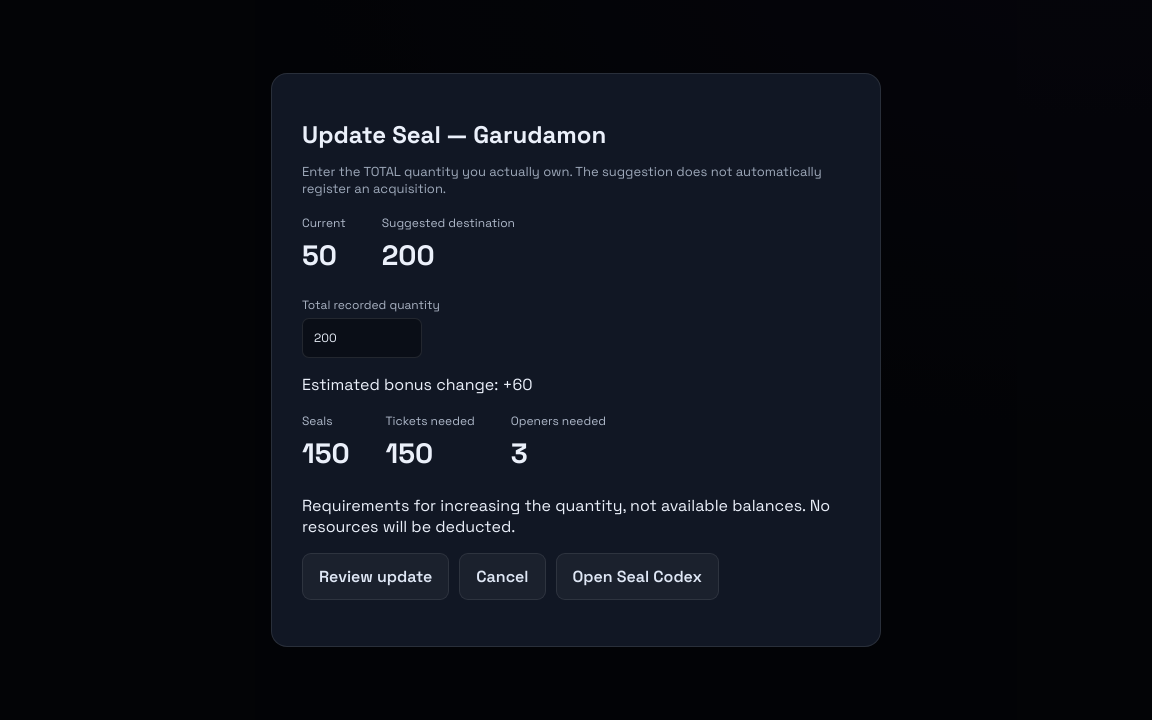
it: Contextual Seal quantity editor › renders translated editing and confirmation in en
Click the button "Review update" at (376, 576), box [302,553,449,600]
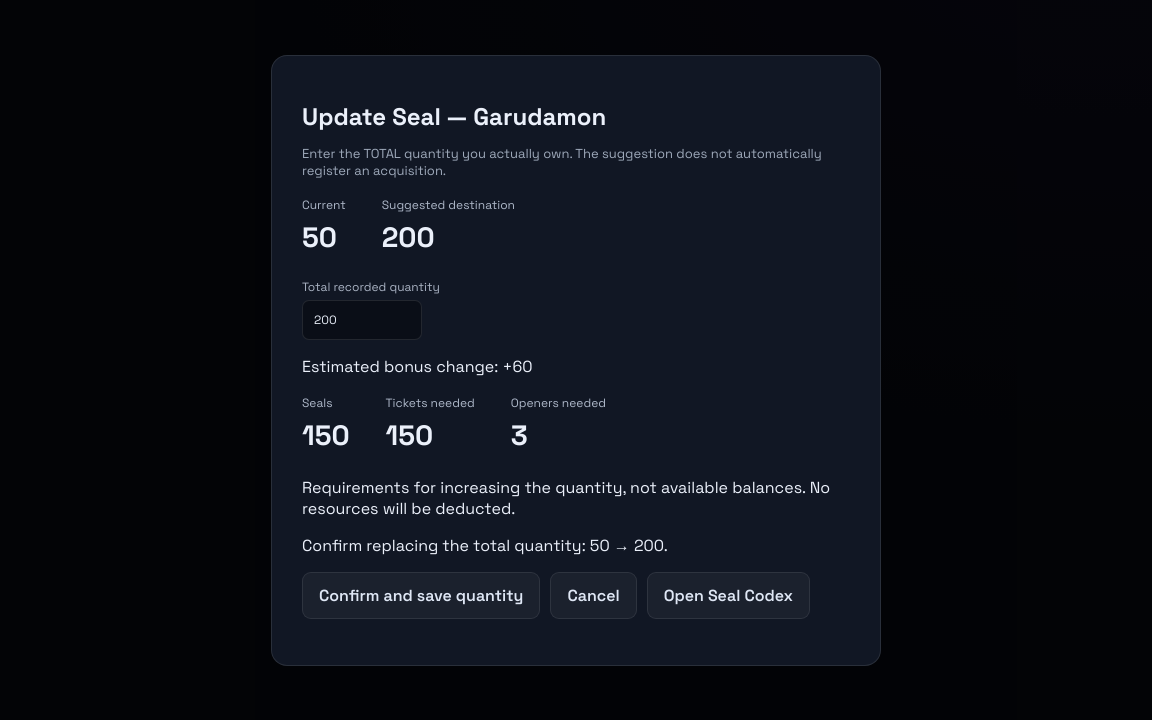
Check: the text "Confirm and save quantity" is shown, box [302,572,540,618]
